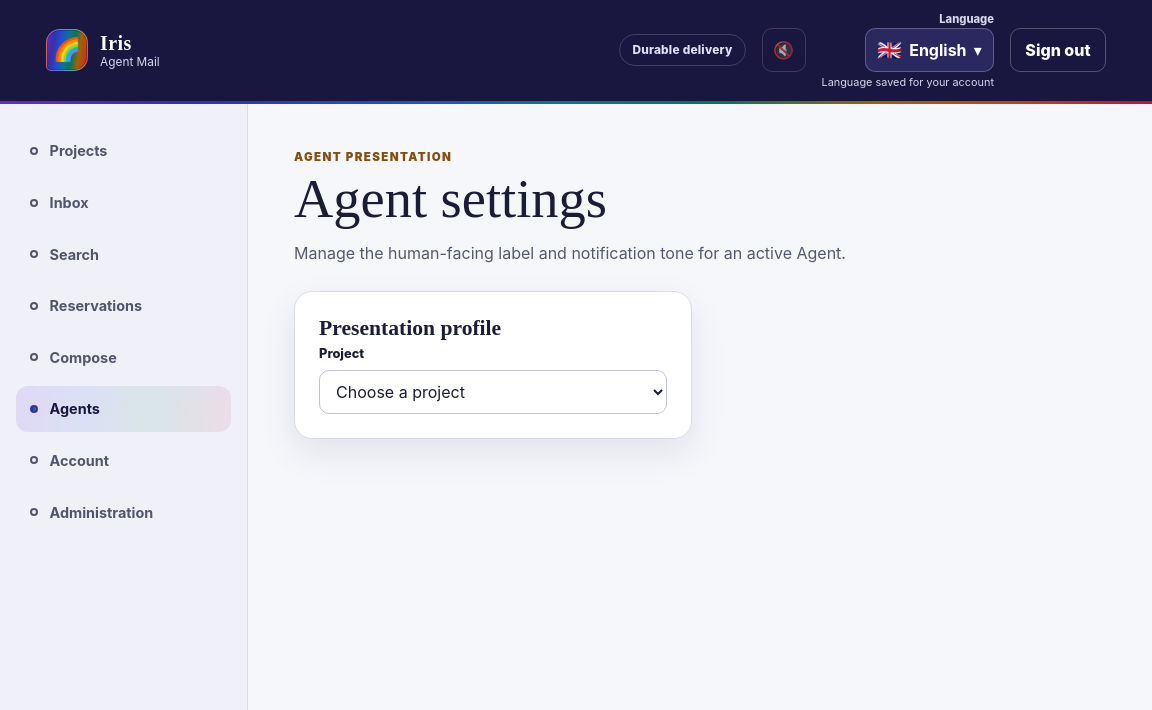
Iris landing shell › uses the profile directory so an active block_all Agent stays configurable
Expected: the text "Language saved for your account" is shown, [822,75,994,89]
Select "/mateusz-klatt/mcp_agent_mail" in the dropdown labelled "Project". click: (493, 392)
box: [319,370,667,414]
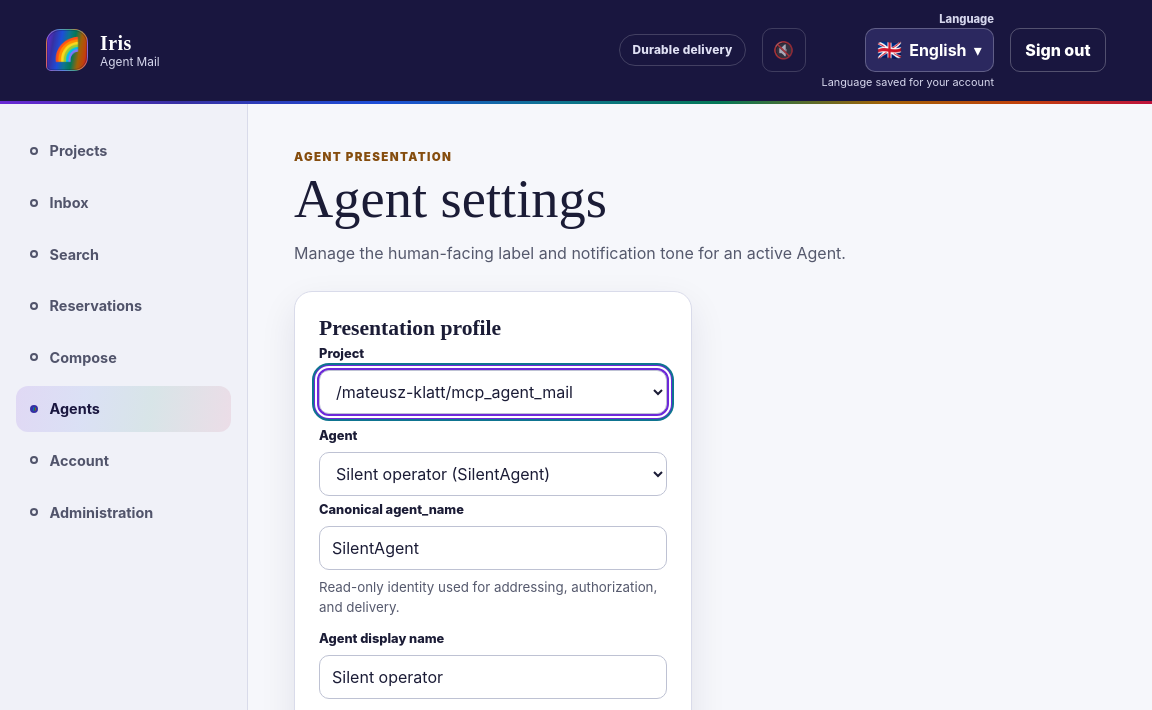
Result: the field labelled "Canonical agent_name" holds "SilentAgent" at [319,526,667,570]
Result: the dropdown labelled "Agent" shows "Silent operator (SilentAgent)" at [319,452,667,496]
